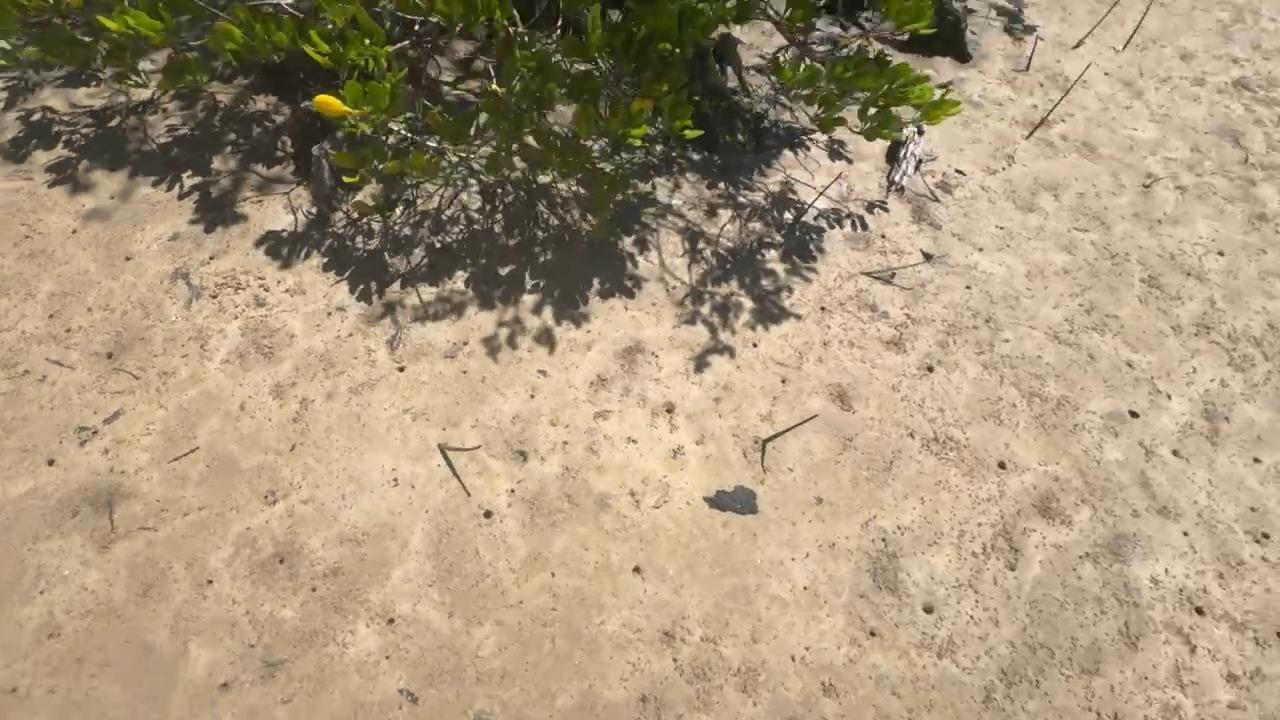Tree: (1025, 62, 1090, 140), (1074, 0, 1121, 47), (762, 416, 818, 446), (1123, 0, 1155, 47), (861, 261, 931, 279), (1026, 35, 1038, 71), (438, 443, 481, 452)
